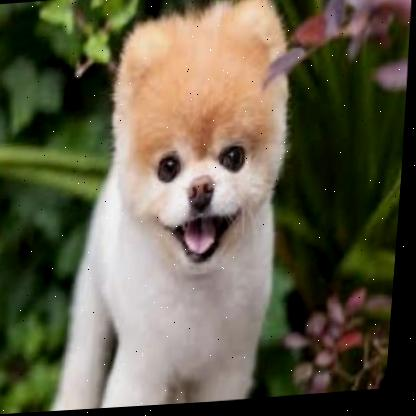dog: (42, 0, 313, 412)
